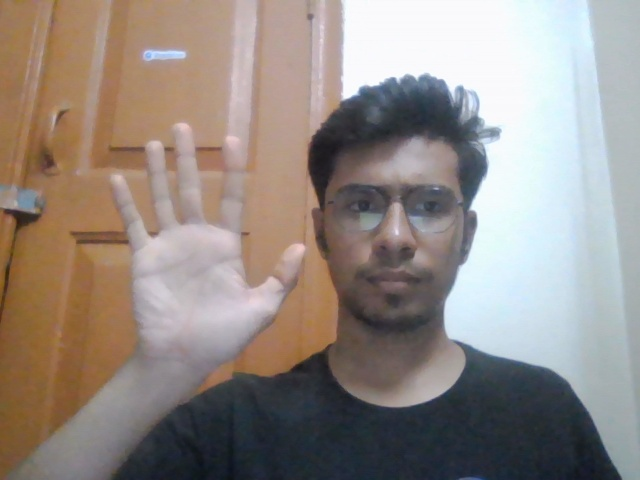Hello: (100, 110, 314, 368)
